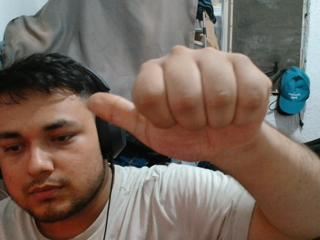Derecha: (82, 41, 277, 164)
